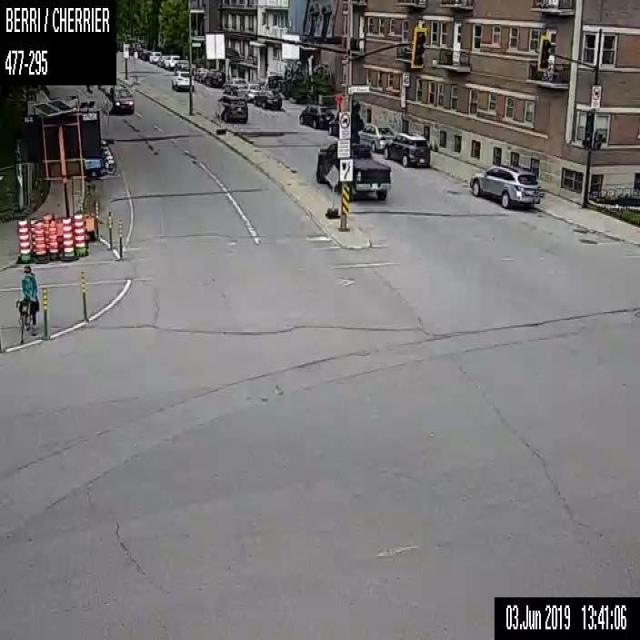construction: (20, 99, 102, 244), (324, 162, 338, 218), (17, 217, 30, 260), (74, 212, 86, 255), (102, 103, 114, 144), (62, 216, 73, 257), (34, 219, 45, 259), (48, 218, 58, 255), (214, 103, 226, 133), (42, 212, 51, 251), (80, 271, 85, 320), (106, 211, 112, 248), (118, 222, 124, 258), (30, 218, 36, 252), (42, 286, 45, 334), (334, 93, 343, 105)
pedestrian: (15, 264, 38, 334)
vehicle: (315, 140, 391, 201), (469, 164, 540, 207), (383, 132, 430, 166), (357, 122, 394, 151), (328, 110, 363, 139), (217, 94, 248, 121), (298, 105, 334, 128), (109, 83, 133, 113), (253, 89, 282, 108), (170, 70, 194, 90), (222, 77, 248, 95), (237, 82, 261, 101), (202, 68, 224, 86), (173, 59, 194, 73), (164, 55, 180, 69), (194, 66, 208, 82), (149, 51, 161, 64), (157, 55, 166, 66)
